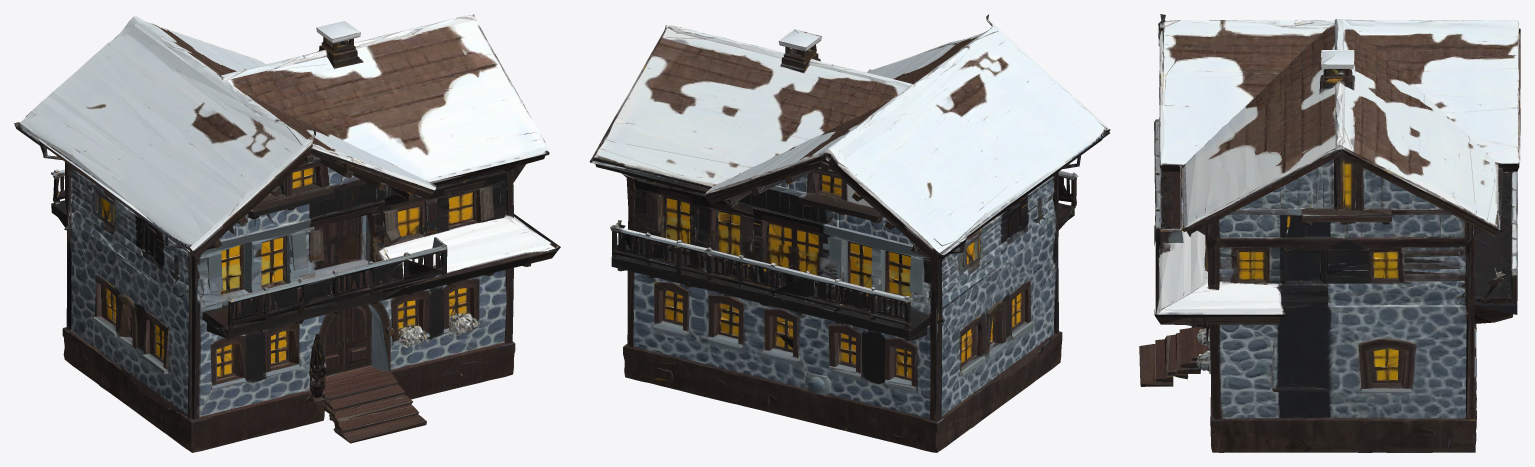
The model's file is restaurant_stube.glb.
3 views of the same model, side by side, from view 1: azimuth 30°, elevation 25°; view 2: azimuth 150°, elevation 25°; view 3: azimuth 270°, elevation 25° (orthographic). The views are drawn at different scales.
Size of the model in its own units: 1.9 by 1.61 by 1.63.
1 material, 1 textured.
